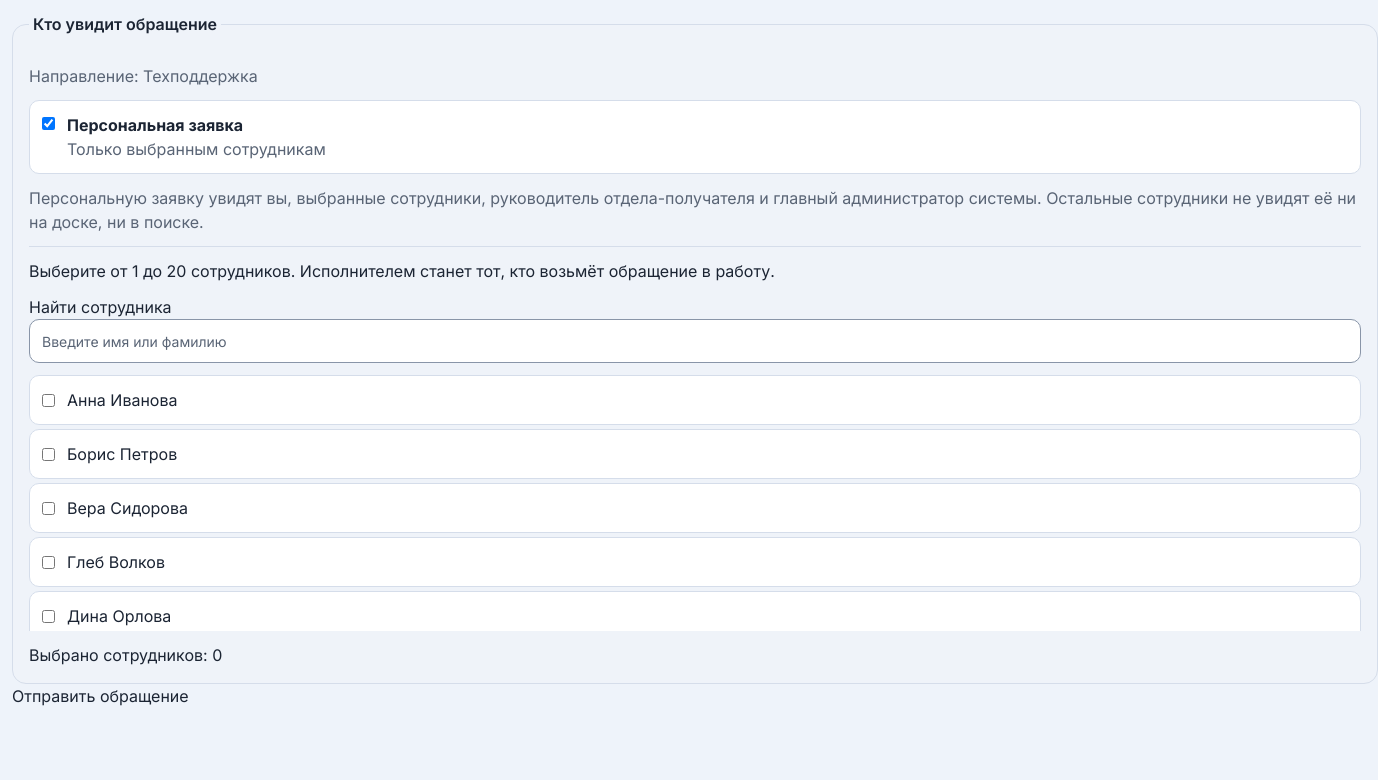
Test: personal request recipient search › preserves a selected recipient while hidden by a filter and when selecting another
The width and height of the screenshot is (1378, 780).
Click the checkbox labelled "Анна Иванова": click(48, 400) x1=42 y1=394 x2=55 y2=406
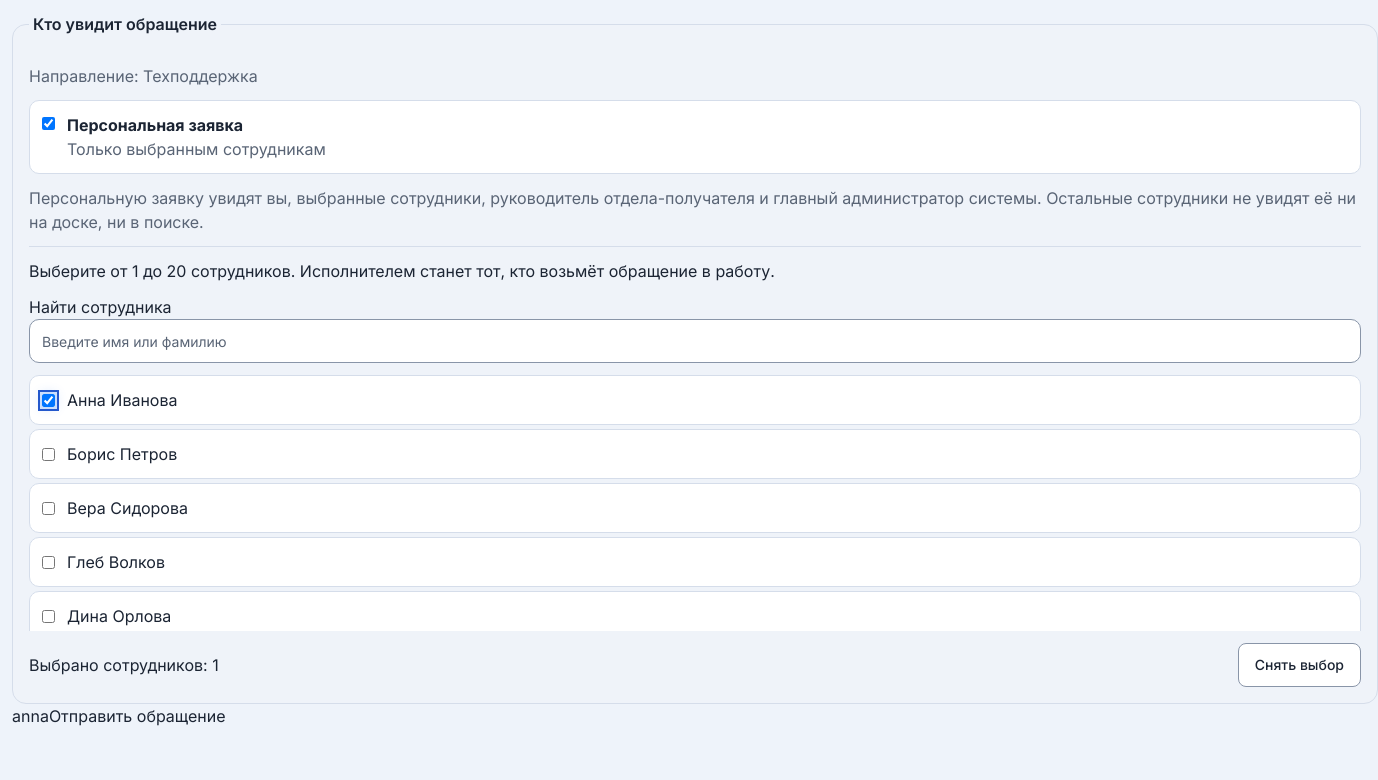
In the search field labelled "Найти сотрудника": (695, 341) x1=29 y1=319 x2=1361 y2=363, type "Петров"
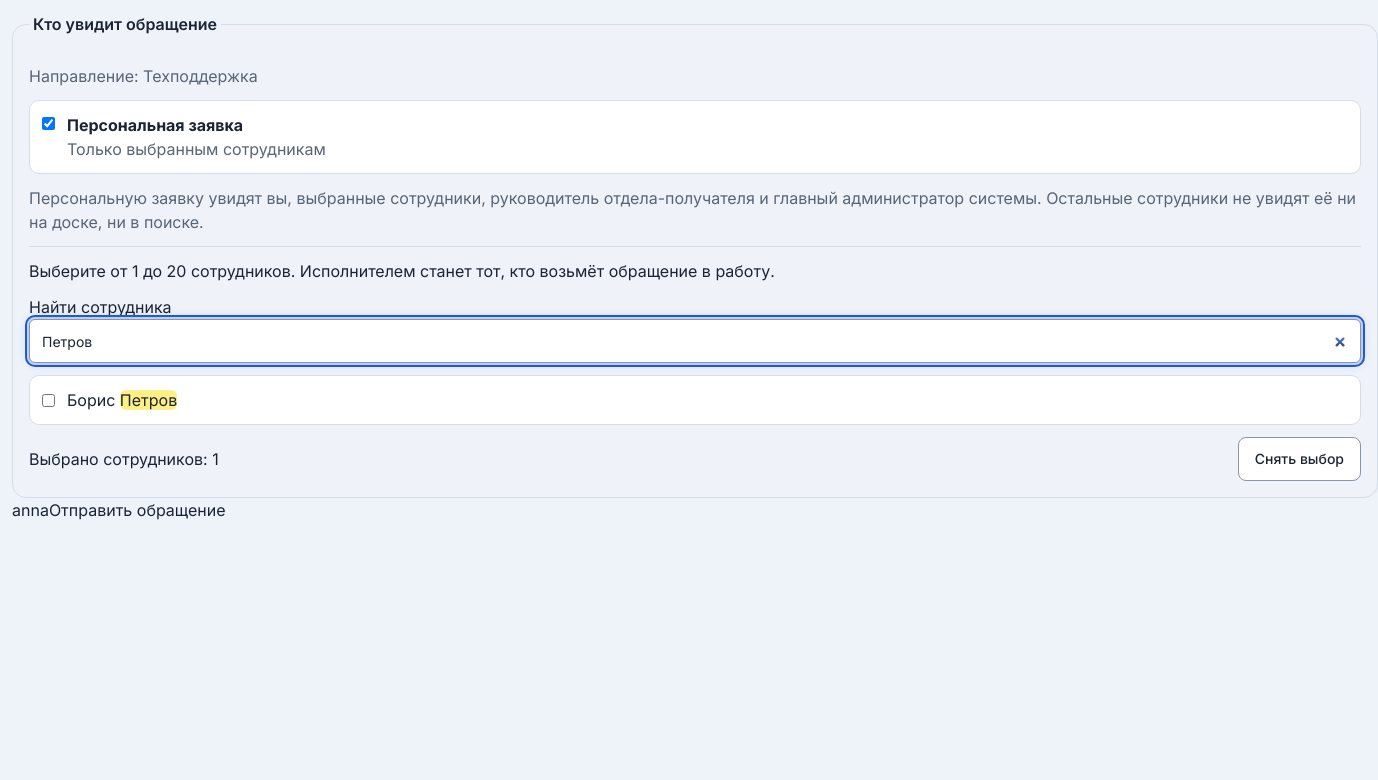
Expected: the text named "Выбранные сотрудники" reads "anna", x1=12 y1=500 x2=49 y2=520
Expected: the text "Анна Иванова" is gone
Click the checkbox labelled "Борис Петров": click(48, 400) x1=42 y1=394 x2=55 y2=406
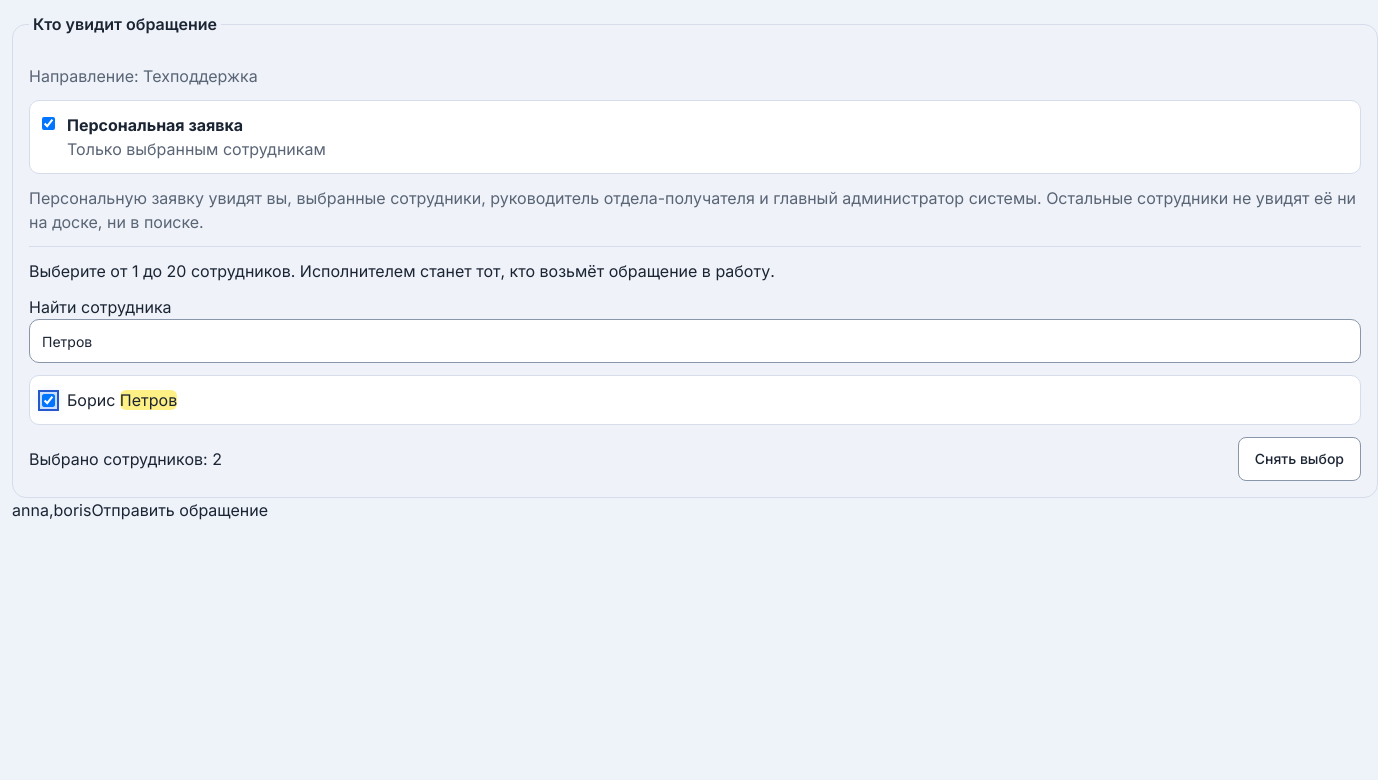
Expected: the text named "Выбранные сотрудники" reads "anna,boris", x1=12 y1=500 x2=91 y2=520
Clear the search field labelled "Найти сотрудника": (695, 341) x1=29 y1=319 x2=1361 y2=363
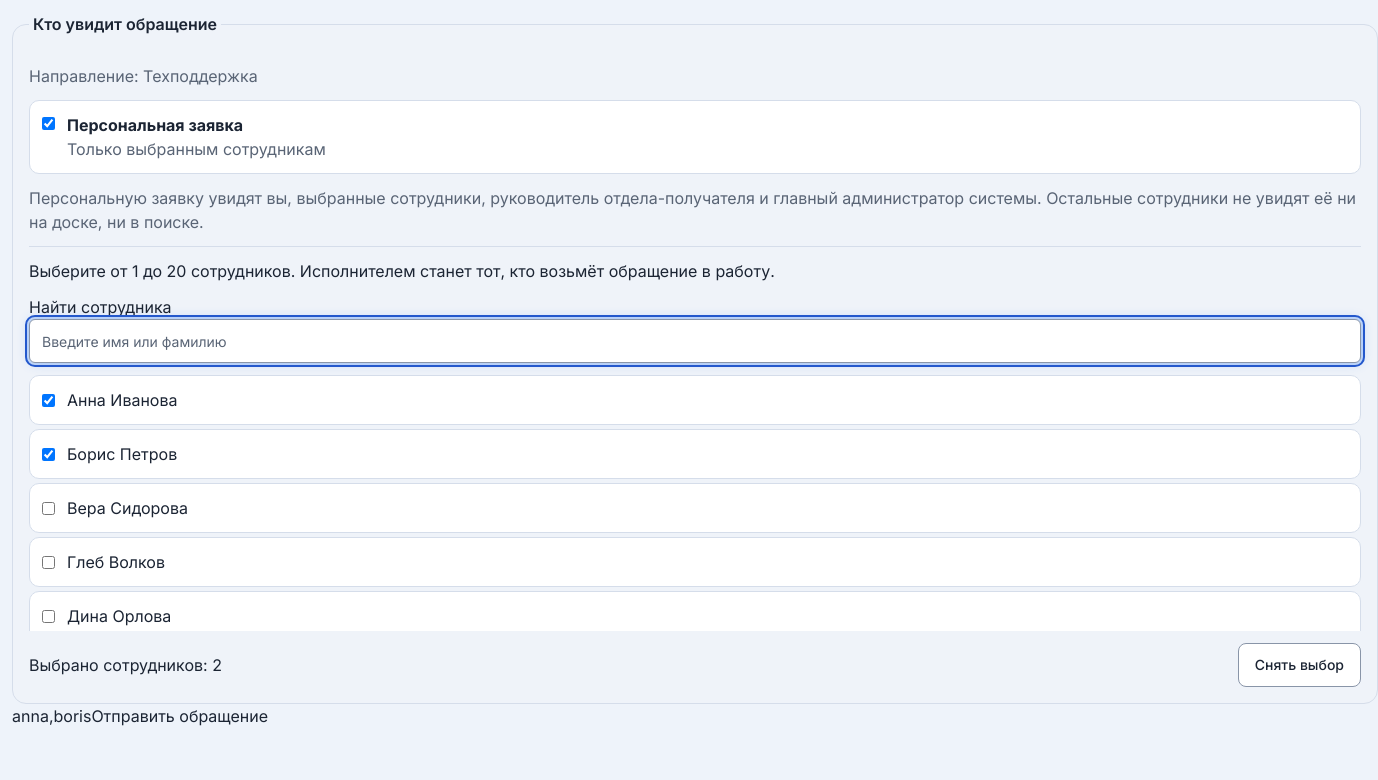
Expected: the checkbox labelled "Борис Петров" is checked, x1=42 y1=448 x2=55 y2=460
Expected: the text "Выбрано сотрудников: 2" is shown, x1=29 y1=653 x2=222 y2=677
Expected: the checkbox labelled "Анна Иванова" is checked, x1=42 y1=394 x2=55 y2=406
